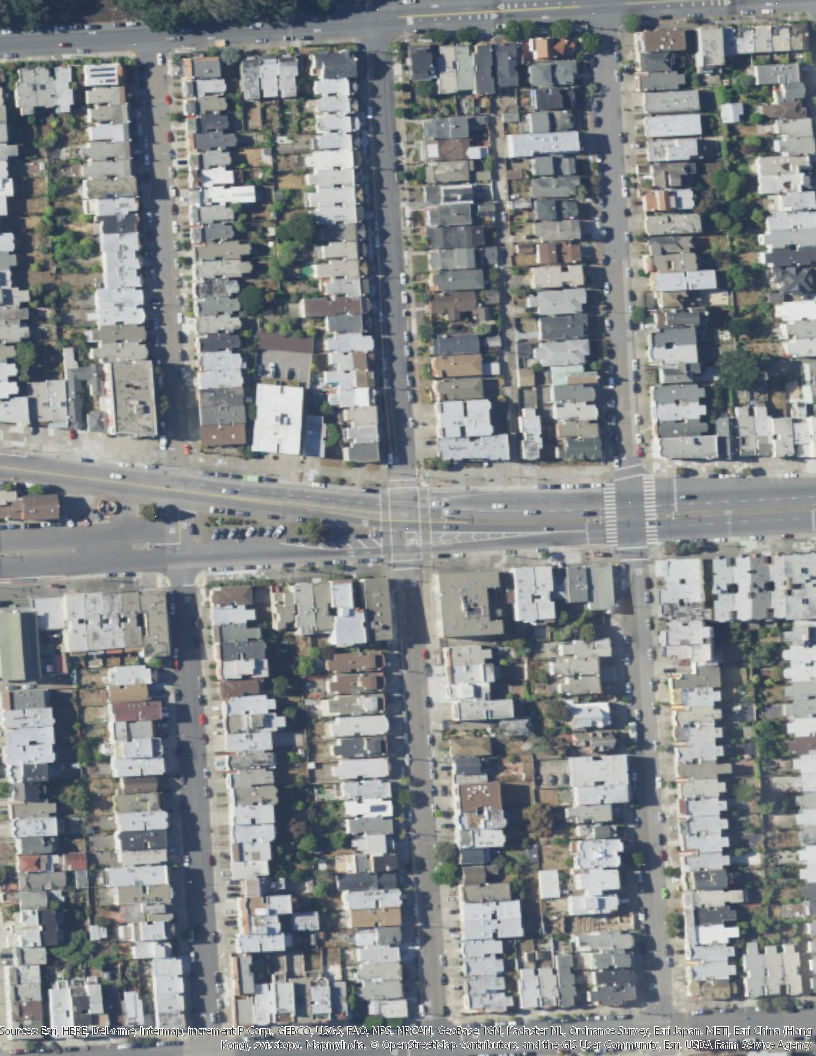zebracross: (641, 474, 659, 547), (600, 481, 619, 545)
